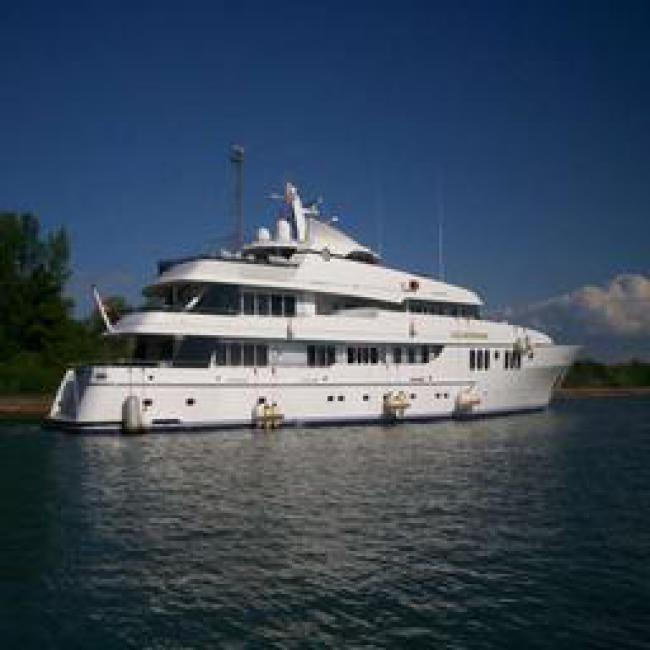Ship: (42, 205, 579, 454)
